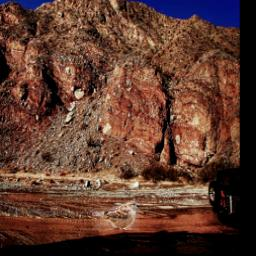Sparrow: (93, 200, 141, 230)
